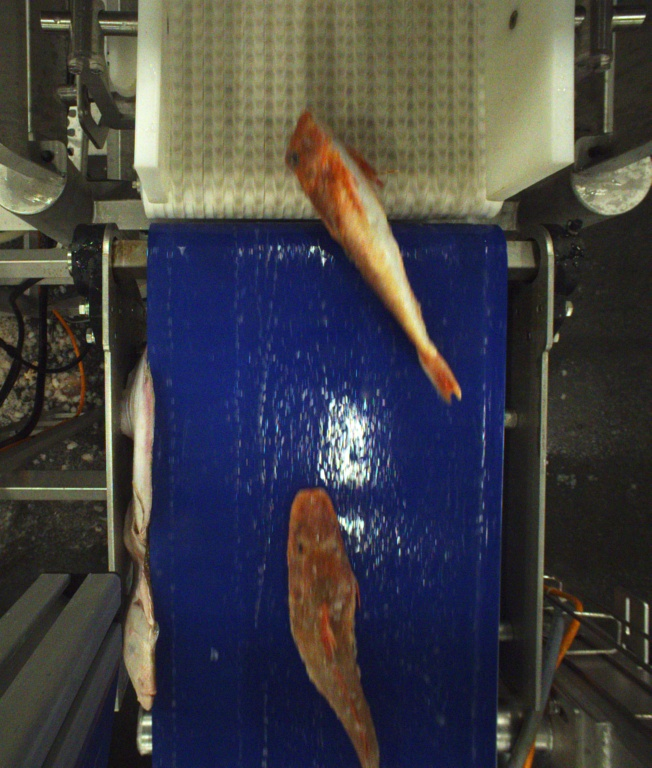GUU: (284, 110, 464, 404)
